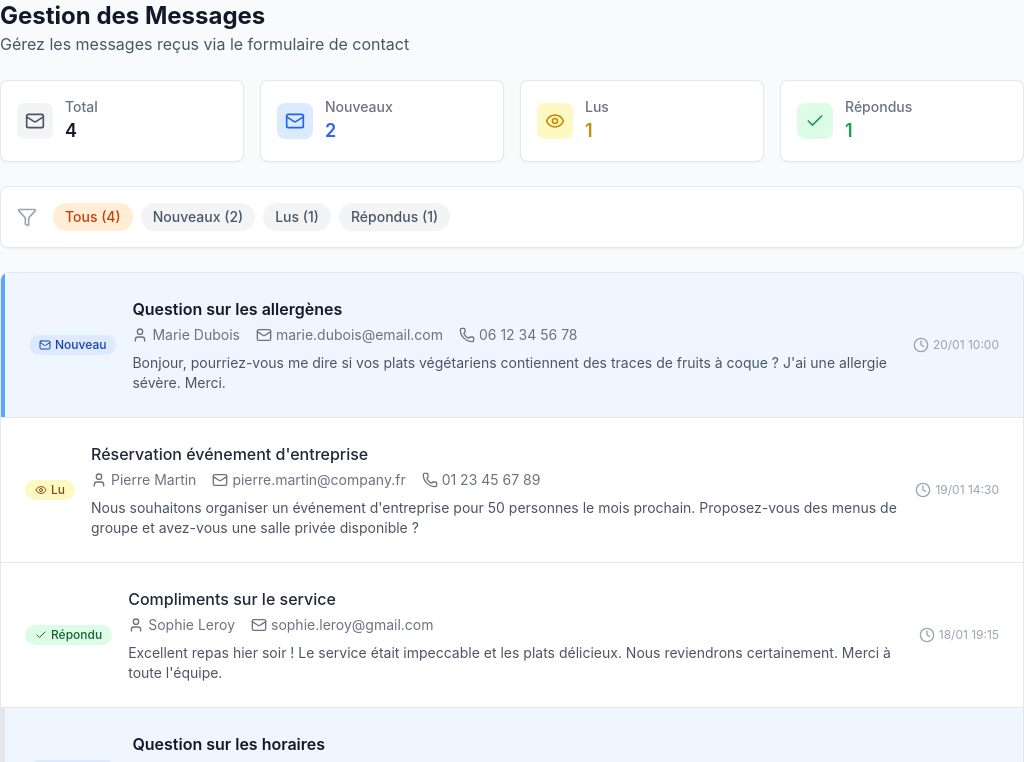
Test: ContactsManagement Component › Statistics and Filtering › should filter messages by status when filter buttons are clicked
Expected: the heading "Question sur les allergènes" is shown, [132,297,342,321]
Expected: the heading "Réservation événement d'entreprise" is shown, [91,442,368,466]
Filter by "Nouveaux" - should show only new messages
Click the button "Nouveaux (2)" at (198, 217), box [141,203,255,231]
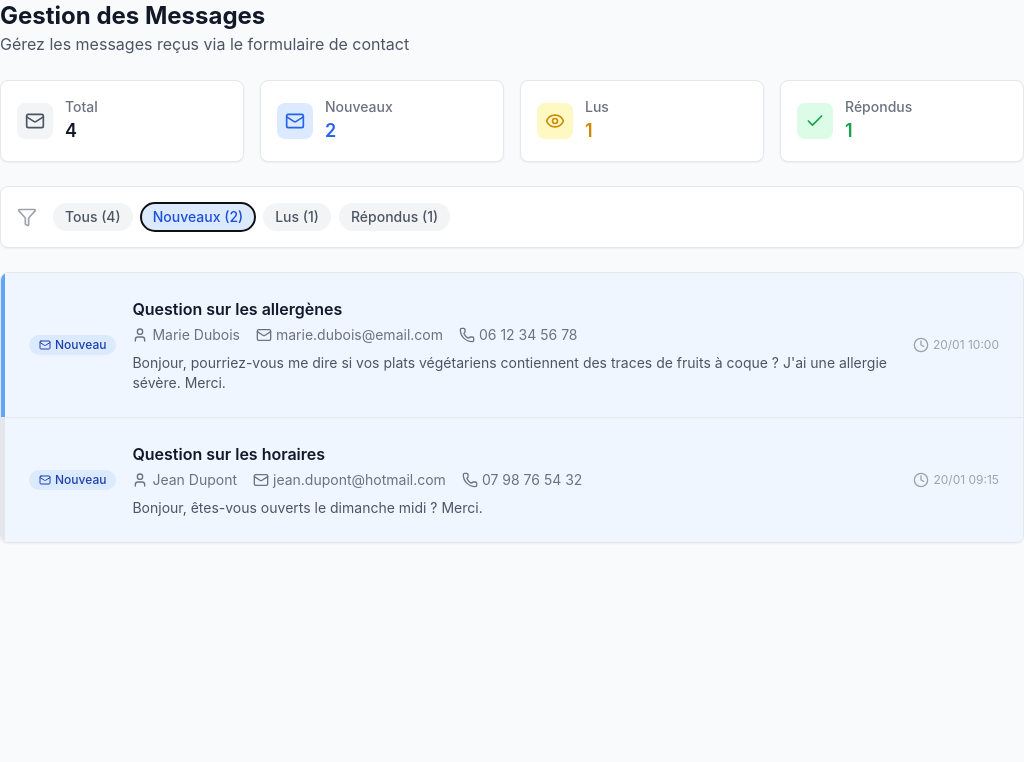
Expected: the heading "Question sur les allergènes" is shown, [132,297,342,321]
Expected: the heading "Réservation événement d'entreprise" is gone
Expected: the heading "Compliments sur le service" is gone
Filter by "Lus" - should show only read messages
Click the button "Lus (1)" at (297, 217), box [263,203,331,231]
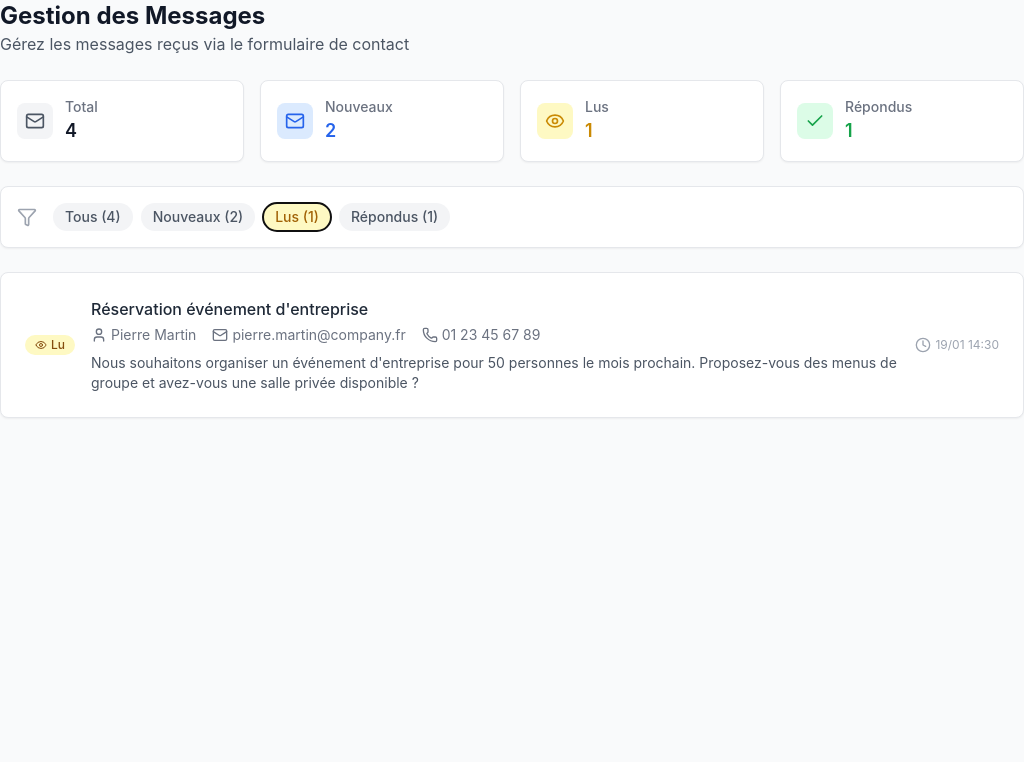
Expected: the heading "Réservation événement d'entreprise" is shown, [91,297,368,321]
Expected: the heading "Question sur les allergènes" is gone
Expected: the heading "Question sur les horaires" is gone
Filter by "Répondus" - should show only replied messages
Click the button "Répondus (1)" at (395, 217), box [339,203,450,231]
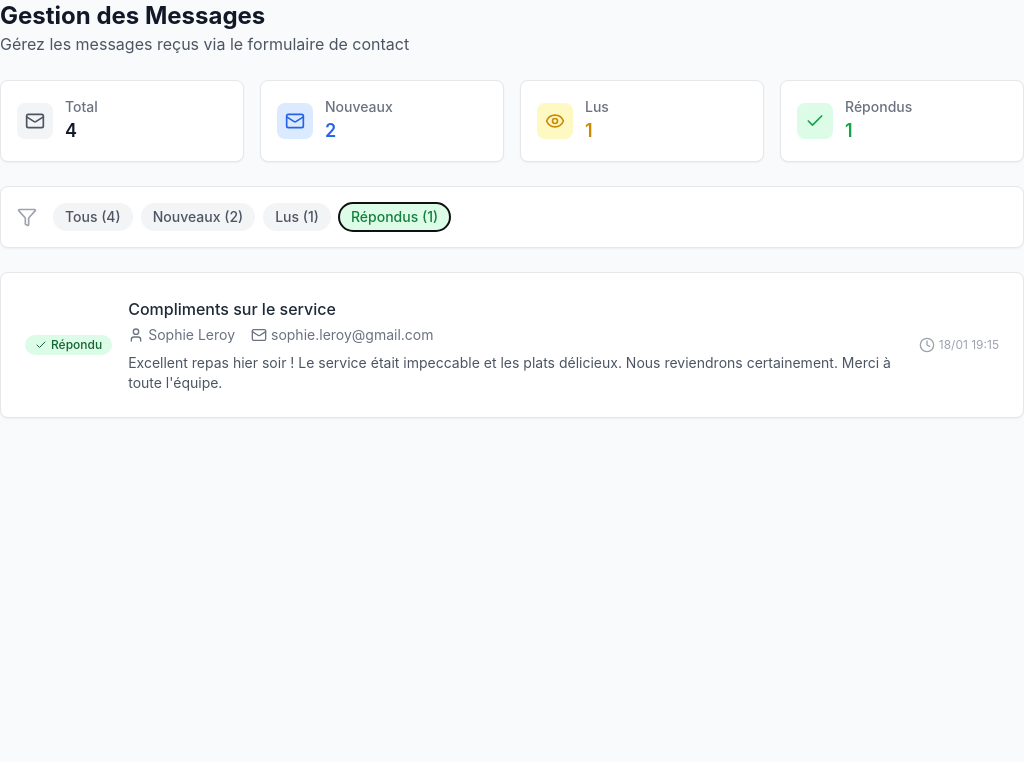
Expected: the heading "Question sur les allergènes" is not shown
Expected: the heading "Compliments sur le service" is shown, [128,297,336,321]
Expected: the heading "Réservation événement d'entreprise" is gone
Back to "Tous" - should show all messages again
Click the button "Tous (4)" at (93, 217), box [53,203,133,231]
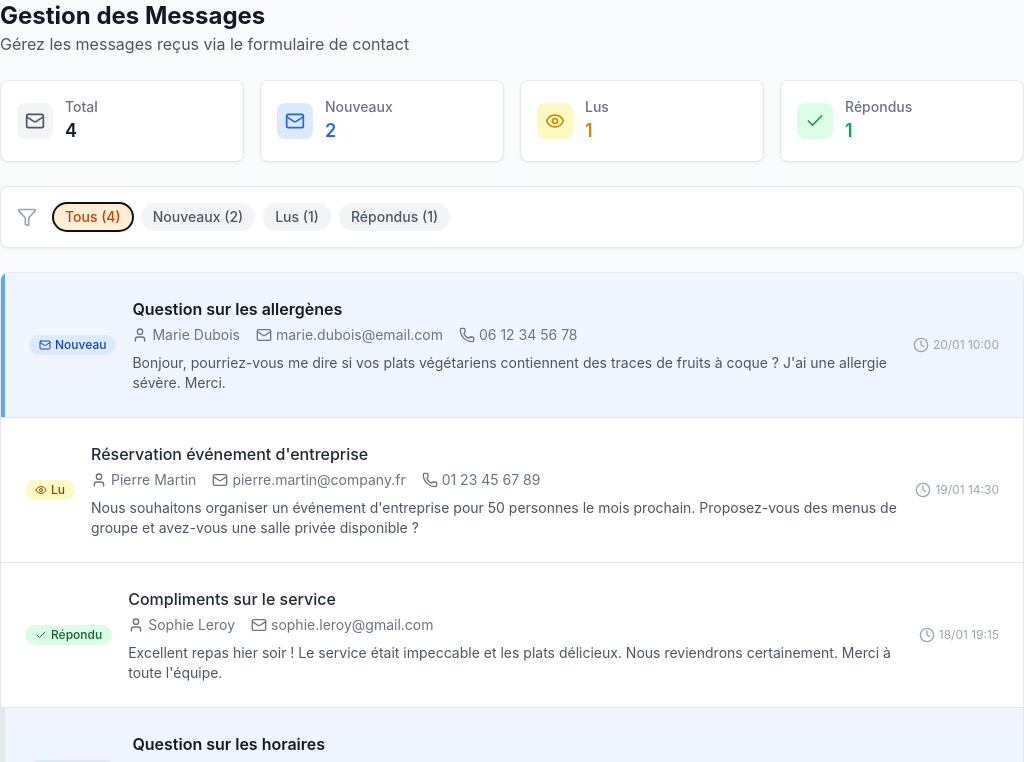
Expected: the heading "Compliments sur le service" is shown, [128,587,336,611]
Expected: the heading "Question sur les allergènes" is shown, [132,297,342,321]
Expected: the heading "Réservation événement d'entreprise" is shown, [91,442,368,466]
